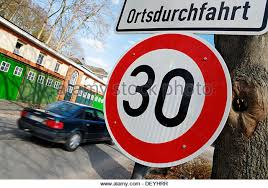Speed_limit_30km: (104, 32, 228, 165)
